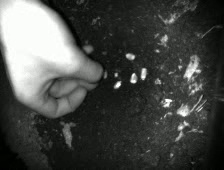corn: (127, 71, 140, 85), (138, 65, 148, 82), (123, 51, 137, 62), (111, 79, 123, 89), (101, 69, 109, 80), (112, 70, 120, 78)
